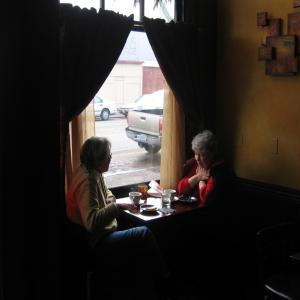Vehicle-registration-plate: (141, 135, 149, 143)
